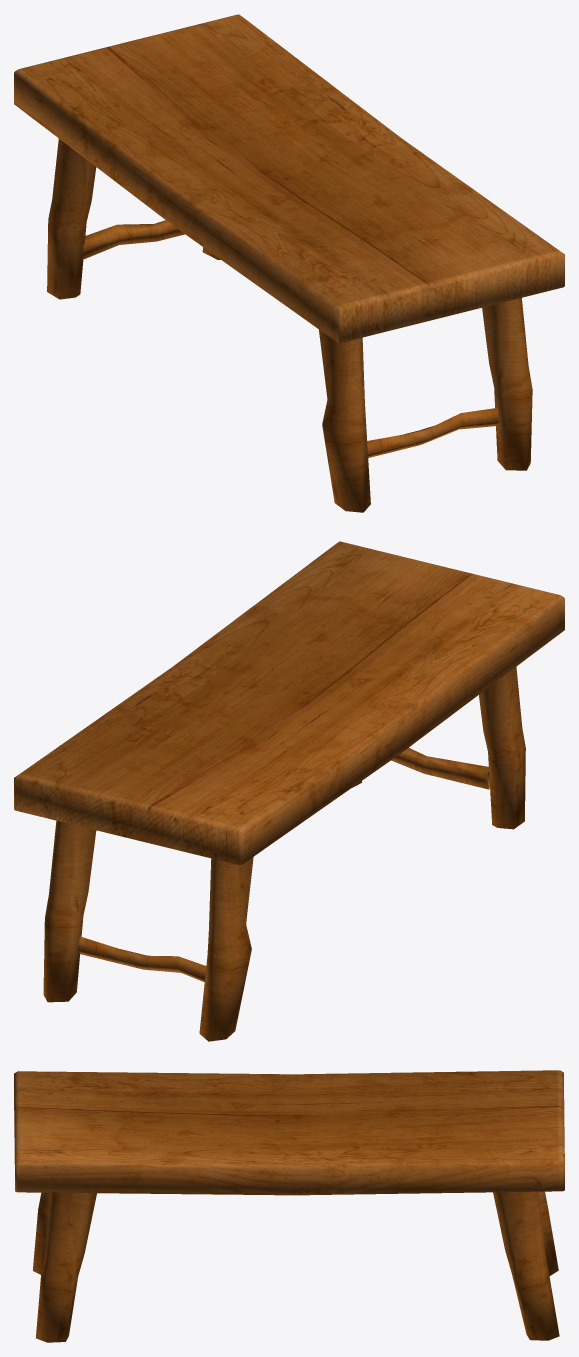
The model's file is Table_Wood.FBX.
3 renders of one model, top to bottom at view 1: azimuth 30°, elevation 25°; view 2: azimuth 150°, elevation 25°; view 3: azimuth 270°, elevation 25°, orthographic. The views are drawn at different scales.
Parts seen in each view (by area): view 1: Table_Wood; view 2: Table_Wood; view 3: Table_Wood.
Part boxes in pixels (x1=…): Table_Wood: x1=14, y1=14, x2=564, y2=512; Table_Wood: x1=14, y1=541, x2=564, y2=1041; Table_Wood: x1=14, y1=1070, x2=564, y2=1342.
Bounding box in the file's own units: 85.88 × 80.08 × 213.
